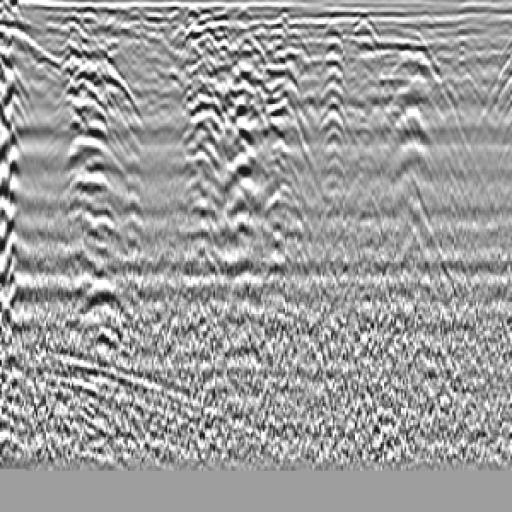metalic: (196, 29, 310, 212)
